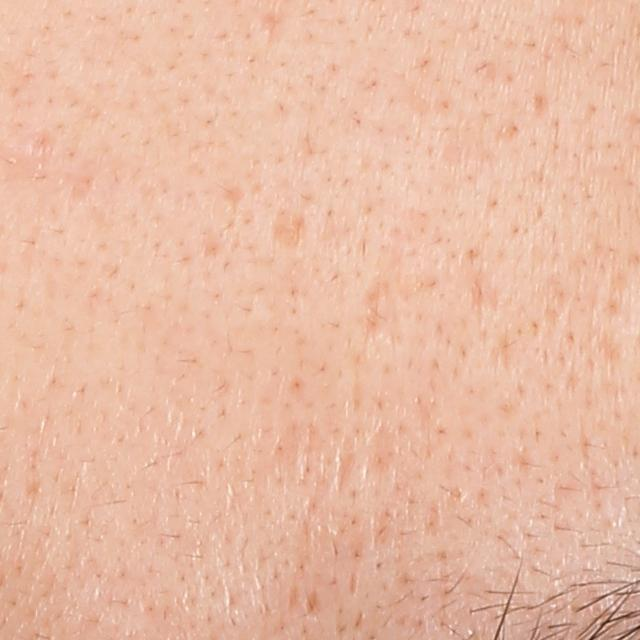atrophic_scar: (360, 278, 408, 351), (266, 205, 307, 254), (468, 270, 504, 320), (255, 8, 290, 55), (58, 166, 94, 210), (334, 436, 357, 494), (219, 181, 251, 219), (304, 590, 321, 622), (533, 92, 552, 119)
